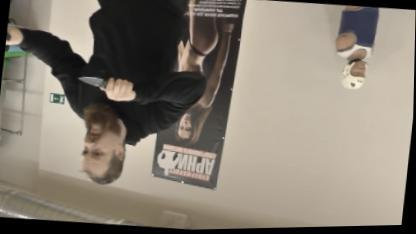knife: (73, 72, 128, 103)
